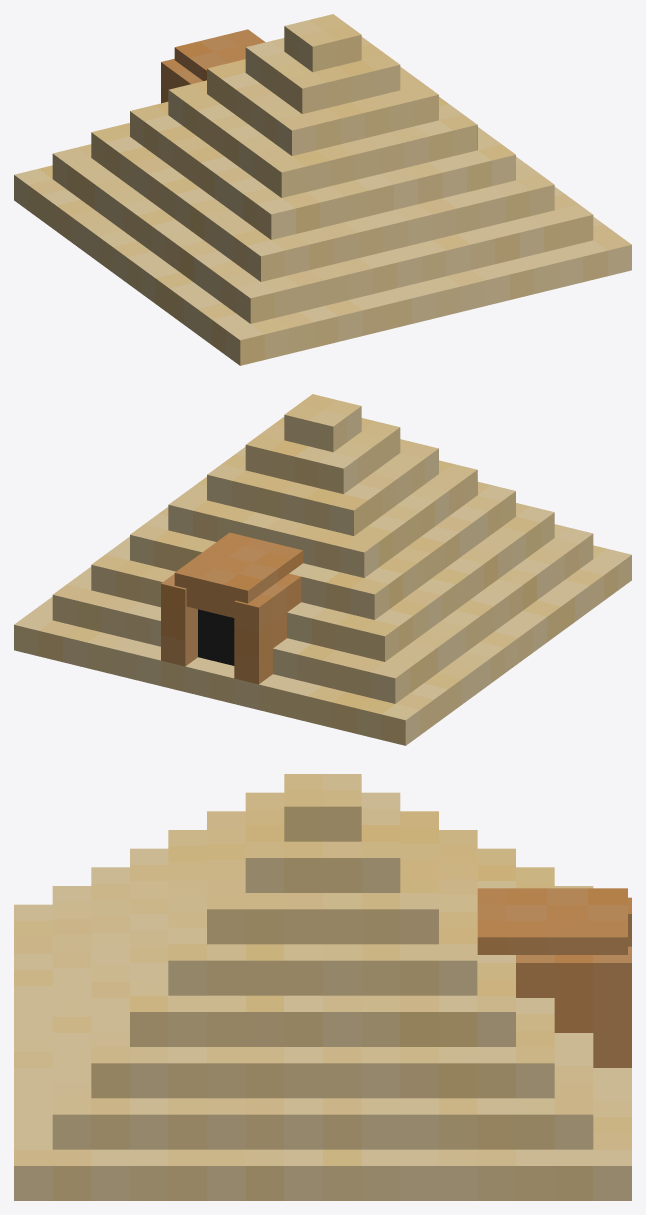
The picture shows the model from 3 angles, top to bottom: view 1: azimuth 30°, elevation 25°; view 2: azimuth 150°, elevation 25°; view 3: azimuth 270°, elevation 25°; orthographic projection. The views are drawn at different scales.
Visible parts, largest first — view 1: Pyramid; view 2: Pyramid; view 3: Pyramid.
Boxes of the visible parts, x1=… form: Pyramid: x1=14, y1=14, x2=631, y2=365; Pyramid: x1=14, y1=394, x2=631, y2=745; Pyramid: x1=14, y1=774, x2=631, y2=1200.
Bounding box in the file's own units: 1 × 0.5 × 1.
1 material, 1 textured.
